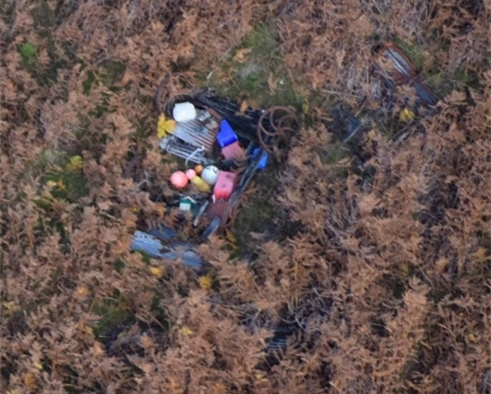cuboid: (369, 33, 424, 91)
together_barrel: (124, 89, 300, 277)
